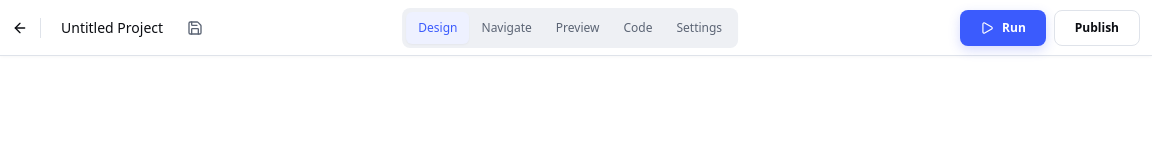
Scenario: editor shell regions › renames the project inline when Enter is pressed
Click the button "Untitled Project" at (112, 28), box [53,14,171,42]
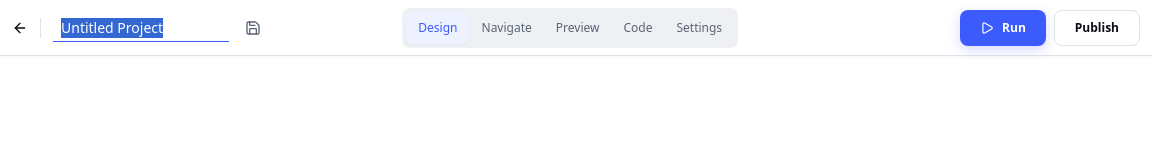
Replace the text in the field named "Project name" with "Renamed Project" at (162, 28), box [53,14,271,42]
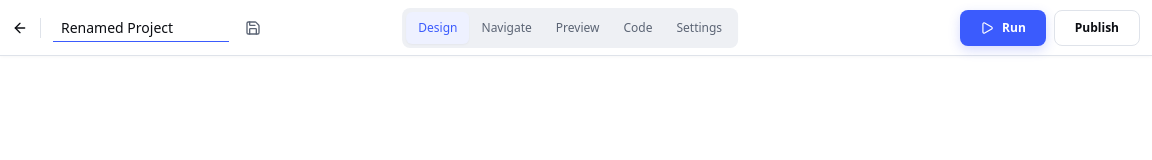
Press Enter in the field named "Project name", box [53,14,271,42]
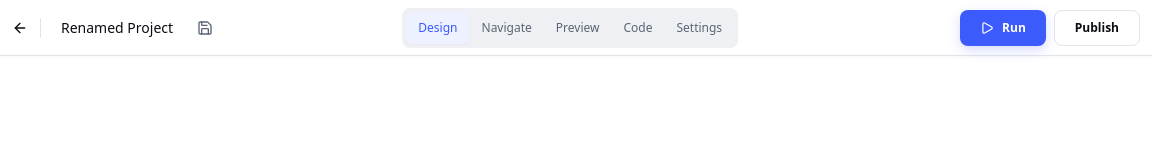
Expected: the button "Renamed Project" is shown, [53,14,181,42]
